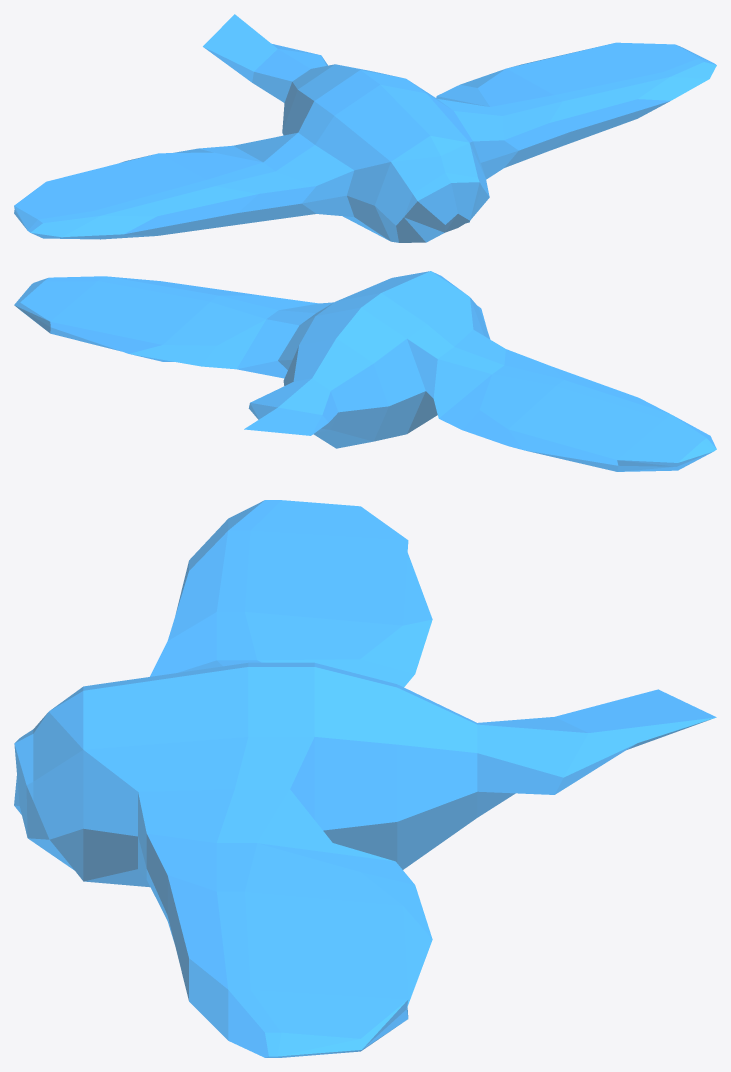
The model's file is ice_bird_body.glb.
3 renders of one model, top to bottom at view 1: azimuth 30°, elevation 25°; view 2: azimuth 150°, elevation 25°; view 3: azimuth 270°, elevation 25°, orthographic. The views are drawn at different scales.
Parts seen in each view (by area): view 1: IceBird Body; view 2: IceBird Body; view 3: IceBird Body.
Boxes of the visible parts, x1=… form: IceBird Body: x1=14, y1=14, x2=716, y2=242; IceBird Body: x1=14, y1=271, x2=716, y2=471; IceBird Body: x1=14, y1=500, x2=716, y2=1057.
Size of the model in its own units: 10.56 by 2 by 5.67.
